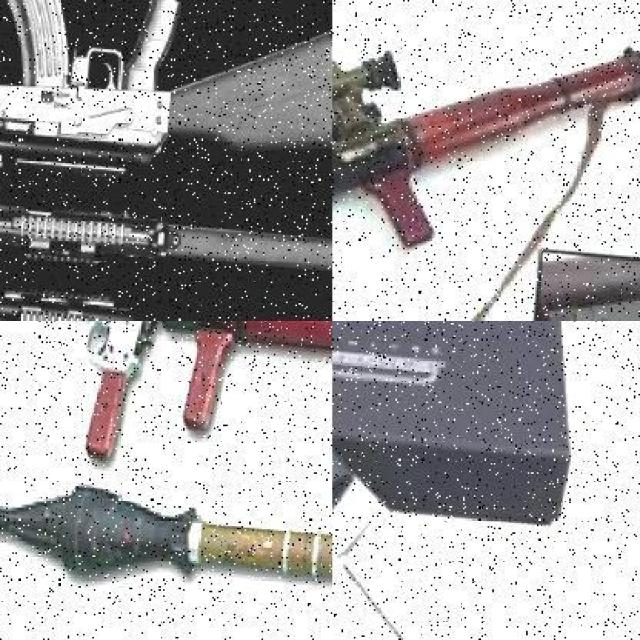weapon: (3, 454, 329, 632), (3, 0, 337, 171), (337, 42, 640, 200), (1, 192, 334, 310)
